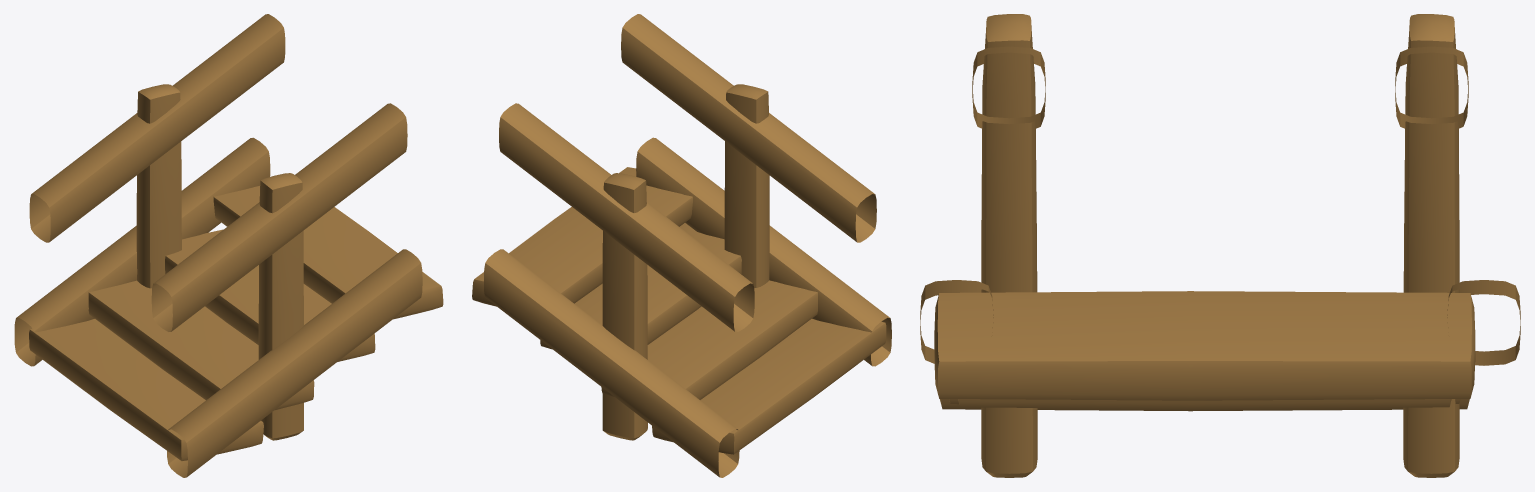
File: Stairs Modular Middle.glb
3 views of the same model, side by side, from view 1: azimuth 30°, elevation 25°; view 2: azimuth 150°, elevation 25°; view 3: azimuth 270°, elevation 25° (orthographic). The views are drawn at different scales.
Visible parts, largest first — view 1: Stairs_Modular_Middle; view 2: Stairs_Modular_Middle; view 3: Stairs_Modular_Middle.
Part boxes in pixels (x1,y1,x2,y2): Stairs_Modular_Middle: [14, 14, 443, 477]; Stairs_Modular_Middle: [472, 14, 891, 477]; Stairs_Modular_Middle: [920, 14, 1520, 477].
Bounding box in the file's own units: 2.26 × 2.43 × 2.56.
